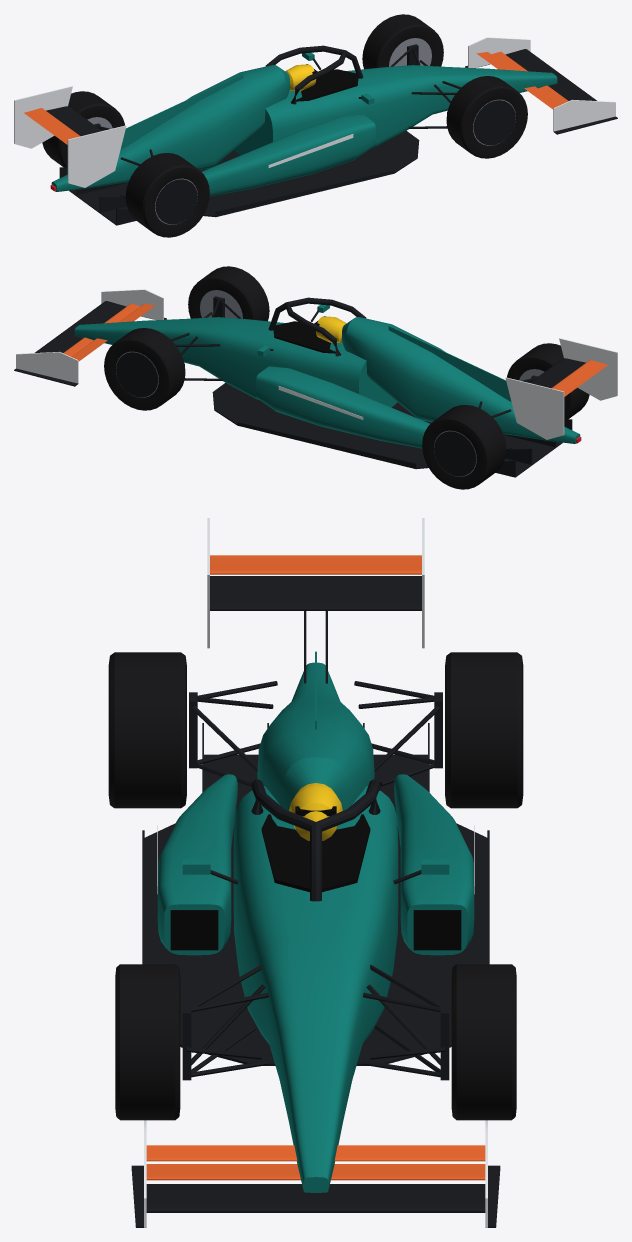
File: car.glb
3 views of the same model, one above another, from view 1: azimuth 30°, elevation 25°; view 2: azimuth 150°, elevation 25°; view 3: azimuth 270°, elevation 25° (orthographic). The views are drawn at different scales.
Parts seen in each view (by area): view 1: Monocoque, Engine_Cover, Sidepod_R, Floor, Tyre_RR, Tyre_FR, RearWing_Endplate_R, Tyre_FL, RearWing_Endplate_L, Tyre_RL, WheelCover_FR, WheelCover_RR (+16 smaller); view 2: Monocoque, Engine_Cover, Sidepod_L, Floor, Tyre_RL, Tyre_FL, RearWing_Endplate_L, Tyre_FR, RearWing_Endplate_R, Tyre_RR, WheelCover_FL, WheelCover_RL (+16 smaller); view 3: Monocoque, Floor, Tyre_RL, Tyre_RR, Engine_Cover, Tyre_FL, Tyre_FR, FrontWing_Main, Sidepod_L, Sidepod_R, RearWing_Main, FrontWing_Flap1 (+8 smaller).
Part boxes in pixels (x1,y1,x2,y2): Monocoque: [234, 65, 557, 155]; Engine_Cover: [51, 65, 290, 191]; Sidepod_R: [201, 114, 375, 196]; Floor: [128, 131, 419, 217]; Tyre_RR: [125, 153, 209, 237]; Tyre_FR: [446, 76, 527, 158]; RearWing_Endplate_R: [67, 125, 126, 187]; Tyre_FL: [362, 14, 443, 69]; RearWing_Endplate_L: [14, 86, 72, 148]; Tyre_RL: [42, 91, 124, 167]; WheelCover_FR: [473, 100, 515, 145]; WheelCover_RR: [155, 179, 197, 224]; Monocoque: [74, 317, 397, 407]; Engine_Cover: [341, 317, 580, 443]; Sidepod_L: [256, 366, 430, 448]; Floor: [212, 383, 503, 469]; Tyre_RL: [422, 405, 506, 489]; Tyre_FL: [104, 328, 185, 410]; RearWing_Endplate_L: [505, 377, 564, 439]; Tyre_FR: [188, 266, 269, 321]; RearWing_Endplate_R: [559, 338, 617, 400]; Tyre_RR: [507, 343, 589, 419]; WheelCover_FL: [116, 352, 158, 397]; WheelCover_RL: [434, 431, 476, 476]; Monocoque: [233, 786, 398, 1192]; Floor: [144, 806, 487, 1065]; Tyre_RL: [445, 652, 523, 808]; Tyre_RR: [108, 652, 186, 808]; Engine_Cover: [257, 662, 374, 810]; Tyre_FL: [451, 964, 516, 1120]; Tyre_FR: [115, 964, 180, 1120]; FrontWing_Main: [146, 1184, 485, 1212]; Sidepod_L: [394, 774, 474, 955]; Sidepod_R: [157, 774, 237, 955]; RearWing_Main: [210, 576, 421, 610]; FrontWing_Flap1: [146, 1164, 485, 1180].
Size of the model in its own units: 5.66 by 1.02 by 1.91.
